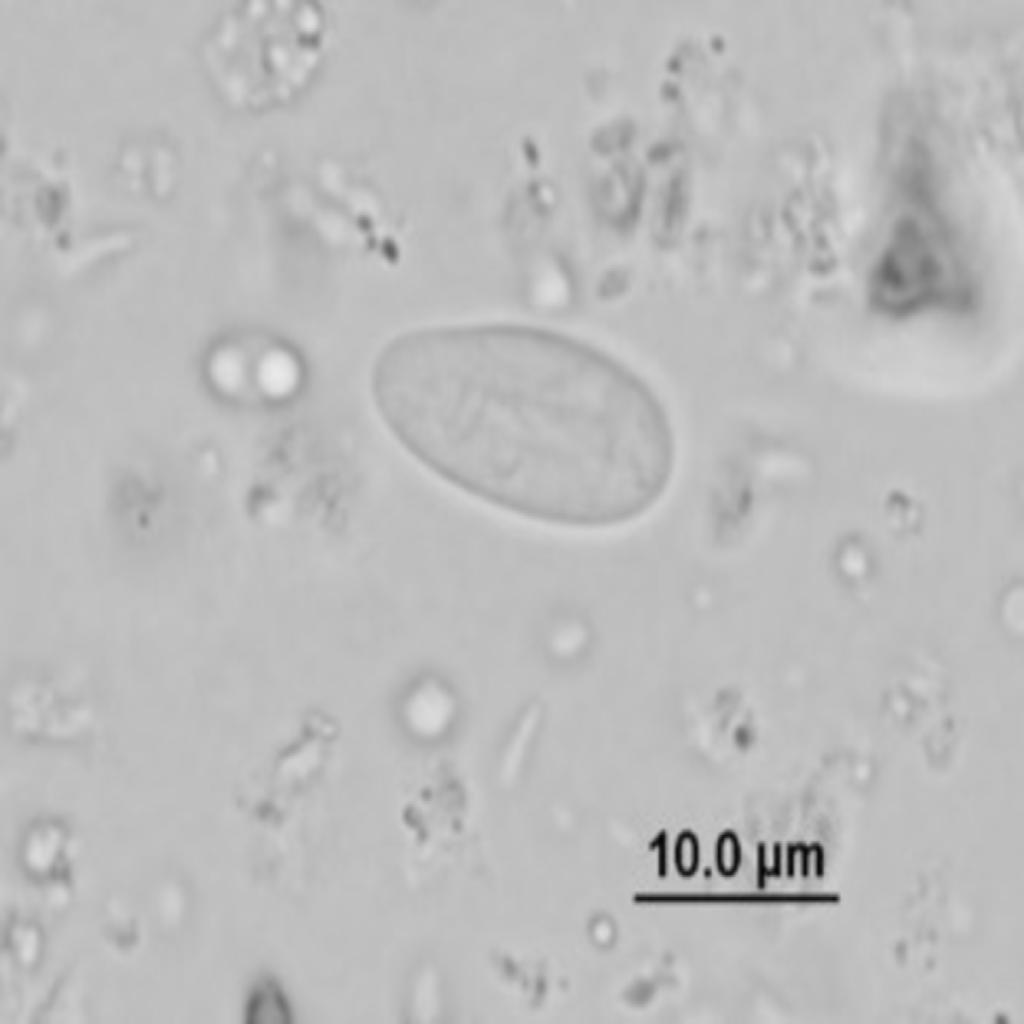Giardia: (360, 318, 678, 534)
